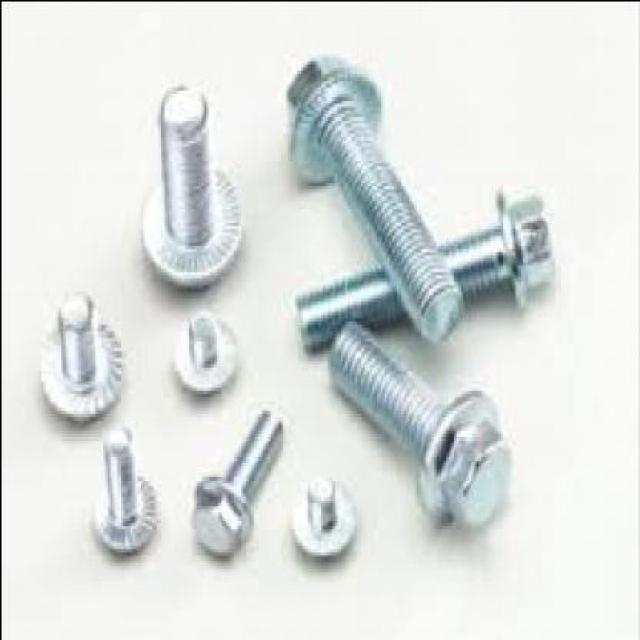METAL: (277, 50, 460, 333), (284, 191, 553, 347), (322, 307, 506, 531), (138, 66, 240, 277), (188, 406, 280, 554), (32, 284, 118, 419), (90, 422, 158, 552), (286, 462, 351, 550), (170, 307, 235, 393)
